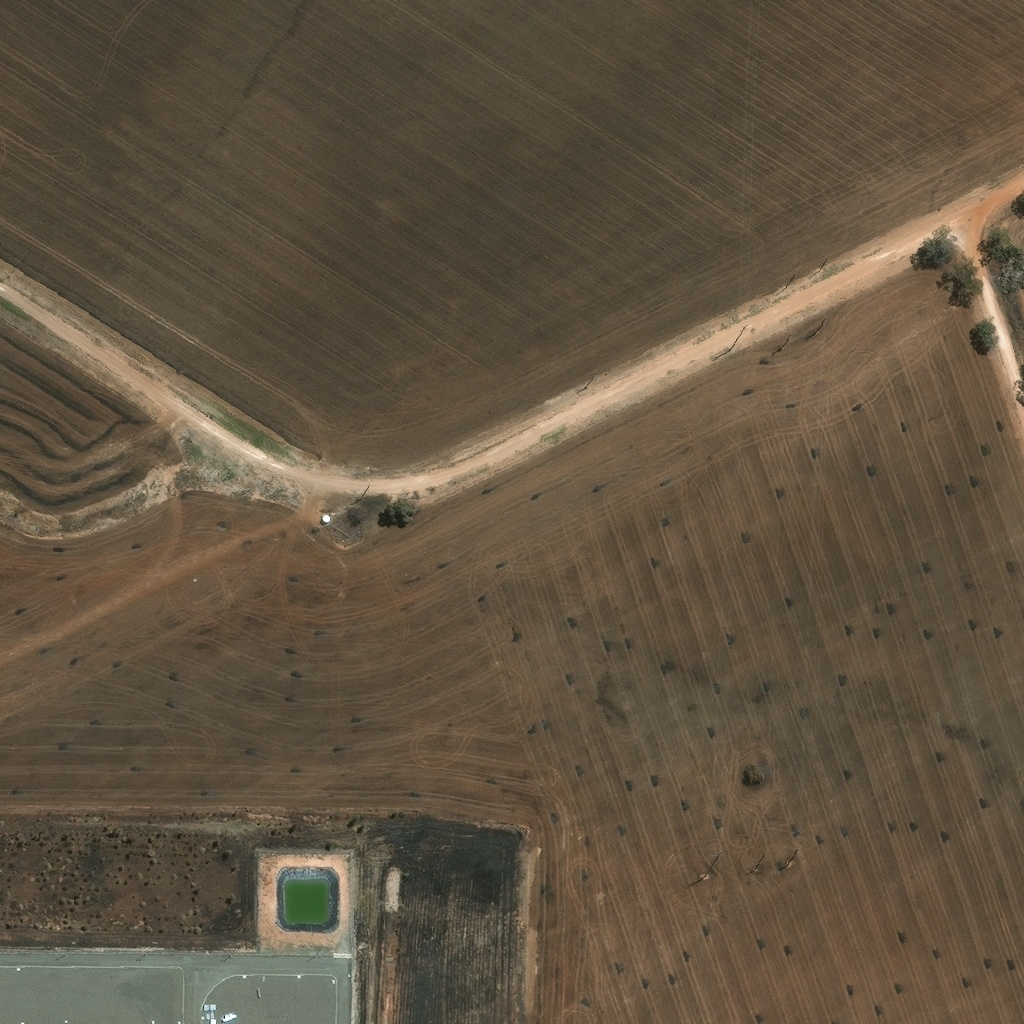0 no-damage: (322, 514, 334, 524)
